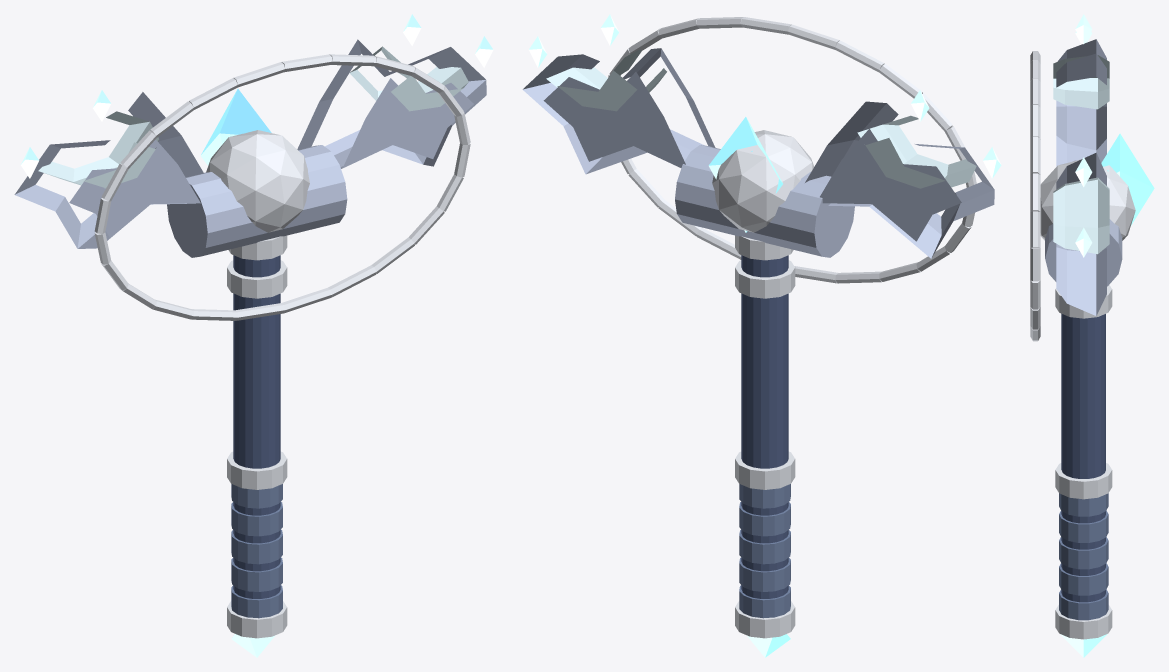
The model's file is pick_celestial_concept_v1.glb.
3 renders of one model, left to right at view 1: azimuth 30°, elevation 25°; view 2: azimuth 150°, elevation 25°; view 3: azimuth 270°, elevation 25°, orthographic. The views are drawn at different scales.
Parts seen in each view (by area): view 1: ForgedHandle_1, AstralSilverWing_left_17, AstralSilverWing_right_16, CrossHeadBridge_13, GemHousing_14, AuroraEdge_left_19, AuroraEdge_right_18, BlueStar_20, MetalCollar_8, MetalCollar_9, MetalCollar_7, GripWrap_-1.14_5 (+5 smaller); view 2: AstralSilverWing_left_17, ForgedHandle_1, AstralSilverWing_right_16, CrossHeadBridge_13, GemHousing_14, AuroraEdge_left_19, AuroraEdge_right_18, MetalCollar_8, MetalCollar_9, MetalCollar_7, BlueStar_20, GripWrap_-1.14_5 (+5 smaller); view 3: ForgedHandle_1, AstralSilverWing_left_17, AstralSilverWing_right_16, AuroraEdge_right_18, GemHousing_14, AuroraEdge_left_19, BlueStar_20, CrossHeadBridge_13, MetalCollar_8, MetalCollar_7, GripWrap_-1.38_4, GripWrap_-1.62_3 (+17 smaller).
Part boxes in pixels (x1,y1,x2,y2): ForgedHandle_1: [233, 255, 280, 598]; AstralSilverWing_left_17: [14, 92, 203, 248]; AstralSilverWing_right_16: [297, 39, 486, 168]; CrossHeadBridge_13: [167, 145, 347, 257]; GemHousing_14: [206, 130, 309, 232]; AuroraEdge_left_19: [38, 111, 158, 188]; AuroraEdge_right_18: [349, 46, 468, 111]; BlueStar_20: [200, 89, 271, 165]; MetalCollar_8: [227, 451, 287, 489]; MetalCollar_9: [227, 260, 287, 298]; MetalCollar_7: [227, 601, 287, 638]; GripWrap_-1.14_5: [231, 502, 282, 536]; AstralSilverWing_left_17: [805, 101, 994, 258]; ForgedHandle_1: [741, 255, 788, 598]; AstralSilverWing_right_16: [522, 48, 715, 174]; CrossHeadBridge_13: [675, 145, 854, 257]; GemHousing_14: [712, 130, 813, 232]; AuroraEdge_left_19: [857, 115, 976, 188]; AuroraEdge_right_18: [546, 49, 666, 111]; MetalCollar_8: [735, 451, 795, 489]; MetalCollar_9: [735, 260, 795, 298]; MetalCollar_7: [735, 601, 795, 638]; BlueStar_20: [708, 117, 782, 232]; GripWrap_-1.14_5: [739, 502, 790, 536]; ForgedHandle_1: [1061, 313, 1105, 602]; AstralSilverWing_left_17: [1056, 39, 1106, 166]; AstralSilverWing_right_16: [1056, 152, 1106, 315]; AuroraEdge_right_18: [1053, 177, 1109, 254]; GemHousing_14: [1040, 159, 1135, 240]; AuroraEdge_left_19: [1053, 55, 1109, 109]; BlueStar_20: [1101, 133, 1154, 225]; CrossHeadBridge_13: [1045, 160, 1122, 286]; MetalCollar_8: [1055, 463, 1112, 499]; MetalCollar_7: [1055, 605, 1112, 639]; GripWrap_-1.38_4: [1059, 537, 1108, 569]; GripWrap_-1.62_3: [1059, 563, 1108, 595].
Bounding box in the file's own units: 4.27 × 5.29 × 1.03.
